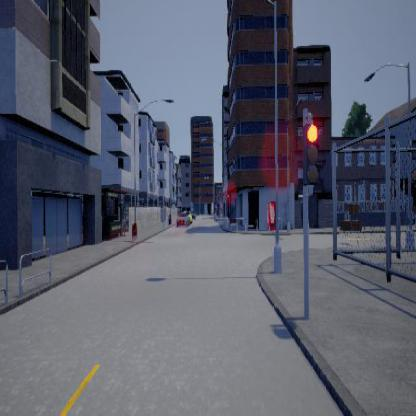traffic_light_red: (302, 112, 319, 196)
vehicle: (175, 210, 195, 227)
